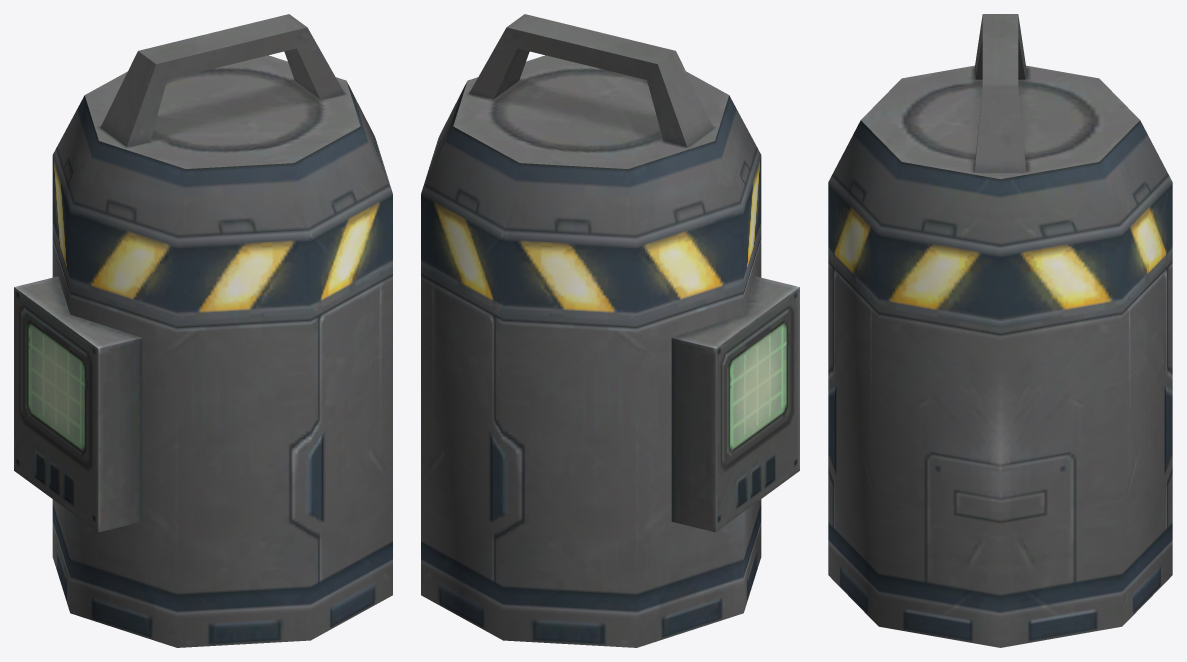
The model's file is metalCabinet.obj.
3 views of the same model, side by side, from view 1: azimuth 30°, elevation 25°; view 2: azimuth 150°, elevation 25°; view 3: azimuth 270°, elevation 25° (orthographic). The views are drawn at different scales.
Visible parts, largest first — view 1: metalCabinet; view 2: metalCabinet; view 3: metalCabinet.
Part boxes in pixels (left/top/right/bottom): metalCabinet: left=14, top=14, right=392, bottom=647; metalCabinet: left=421, top=14, right=799, bottom=647; metalCabinet: left=828, top=14, right=1172, bottom=647.
Bounding box in the file's own units: 0.6188 × 0.9953 × 0.5917.
1 material, 1 textured.
